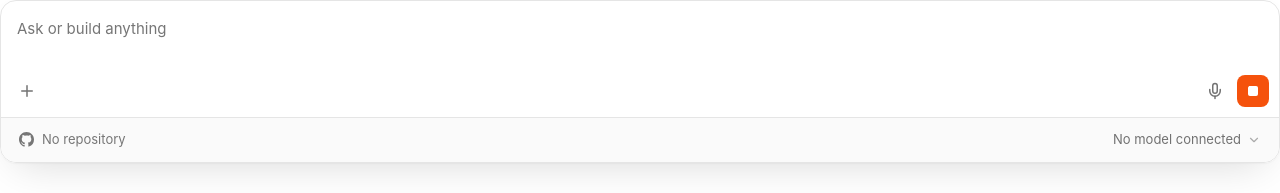
Composer › Stop run › takes the send button's place while the box is empty, and yields to send once there is a message
expect the button named "Stop run" is shown: met, box left=1237, top=75, right=1269, bottom=107
Type "steer it this way" into the text box named "Message". click: (640, 41)
box: left=17, top=17, right=1263, bottom=65
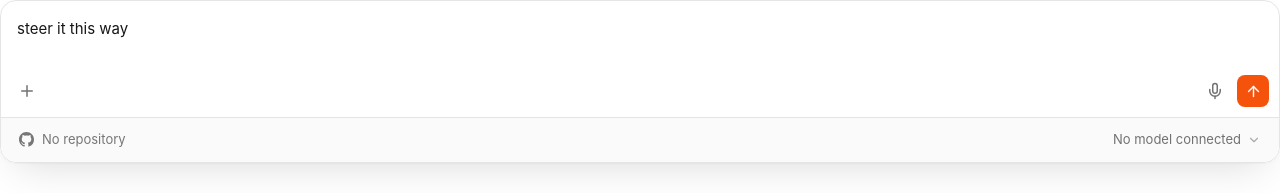
expect the button named "Send message" is shown: met, box left=1237, top=75, right=1269, bottom=107
